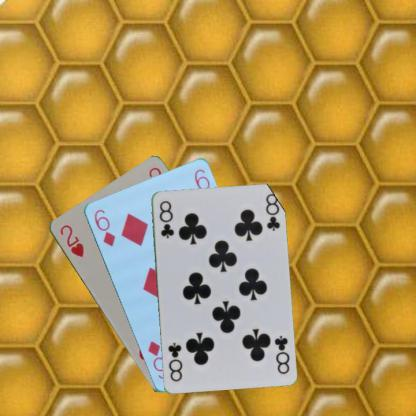2h: (57, 222, 85, 258)
6d: (91, 206, 117, 247)
8c: (157, 198, 175, 240), (272, 333, 290, 375)
